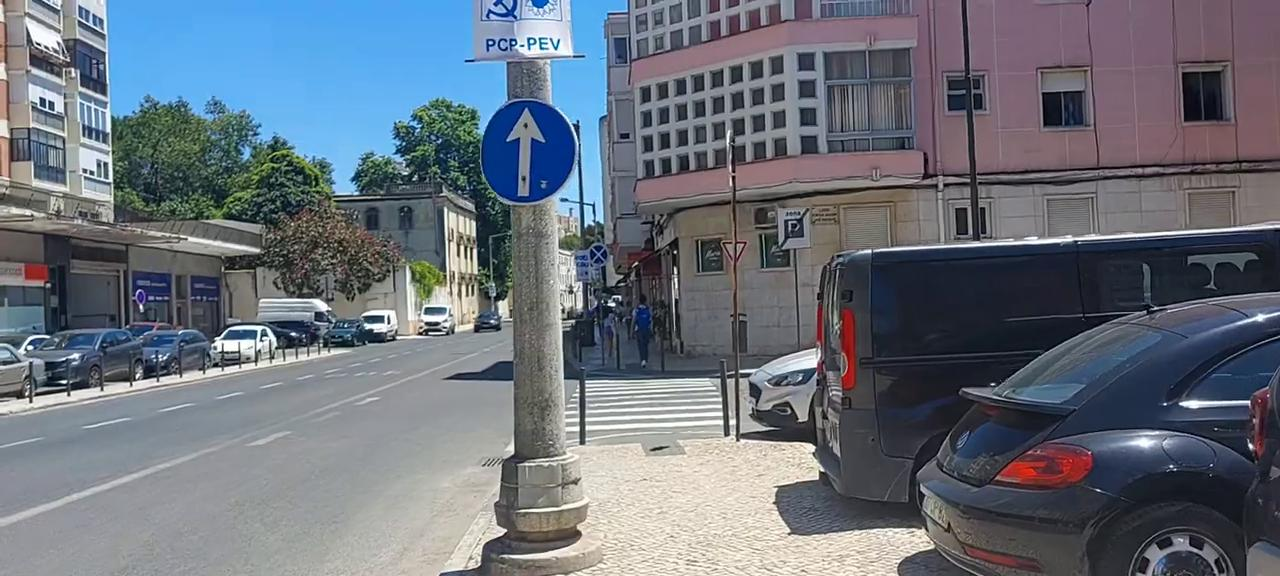sentido obrigatorio: (478, 97, 582, 206)
